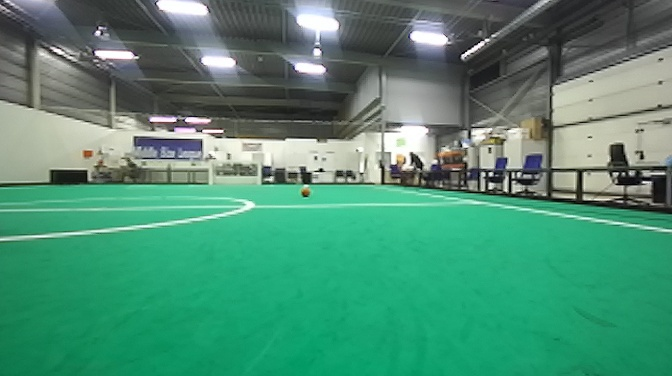ball: (297, 185, 315, 200)
goal: (207, 157, 264, 188)
goalpost: (255, 158, 263, 187), (207, 159, 215, 187)
